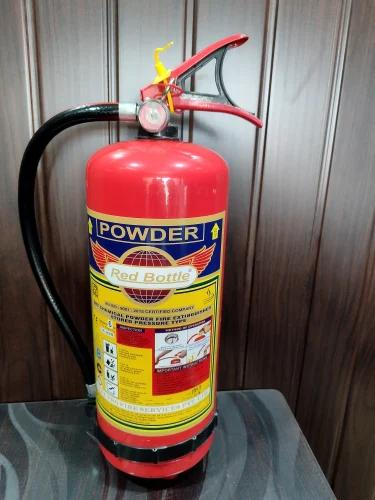floor-kept: (6, 19, 287, 496)
